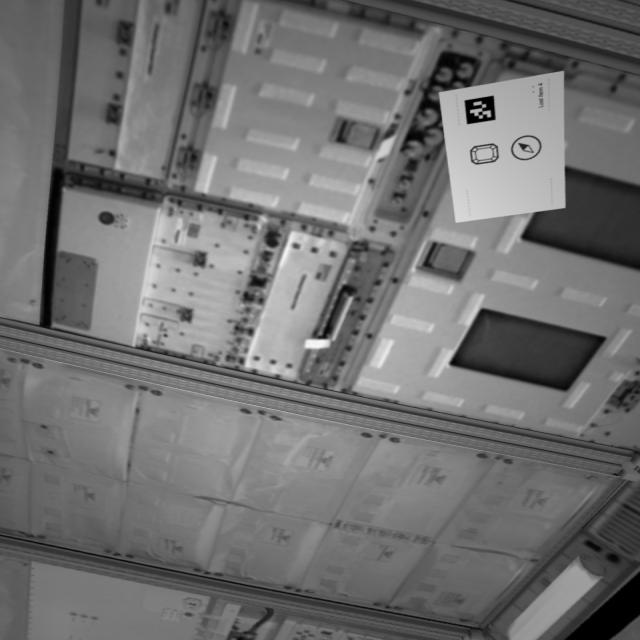compass: (510, 134, 546, 163)
emerald: (464, 141, 504, 168)
